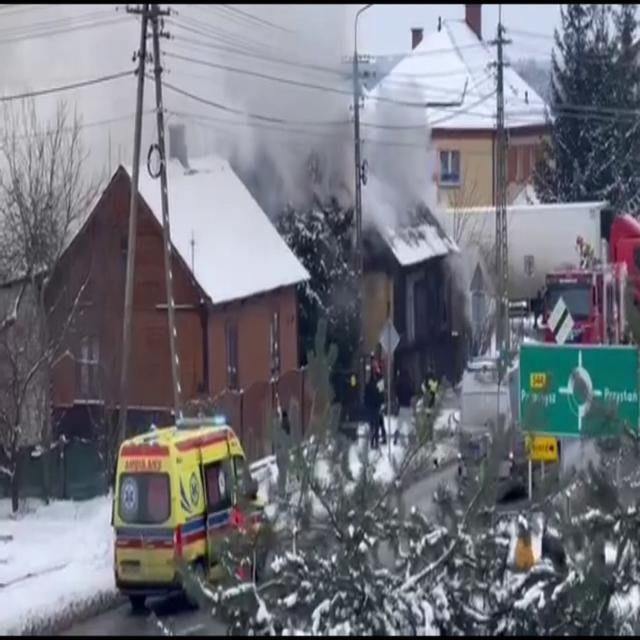Smoke: (188, 4, 448, 272)
